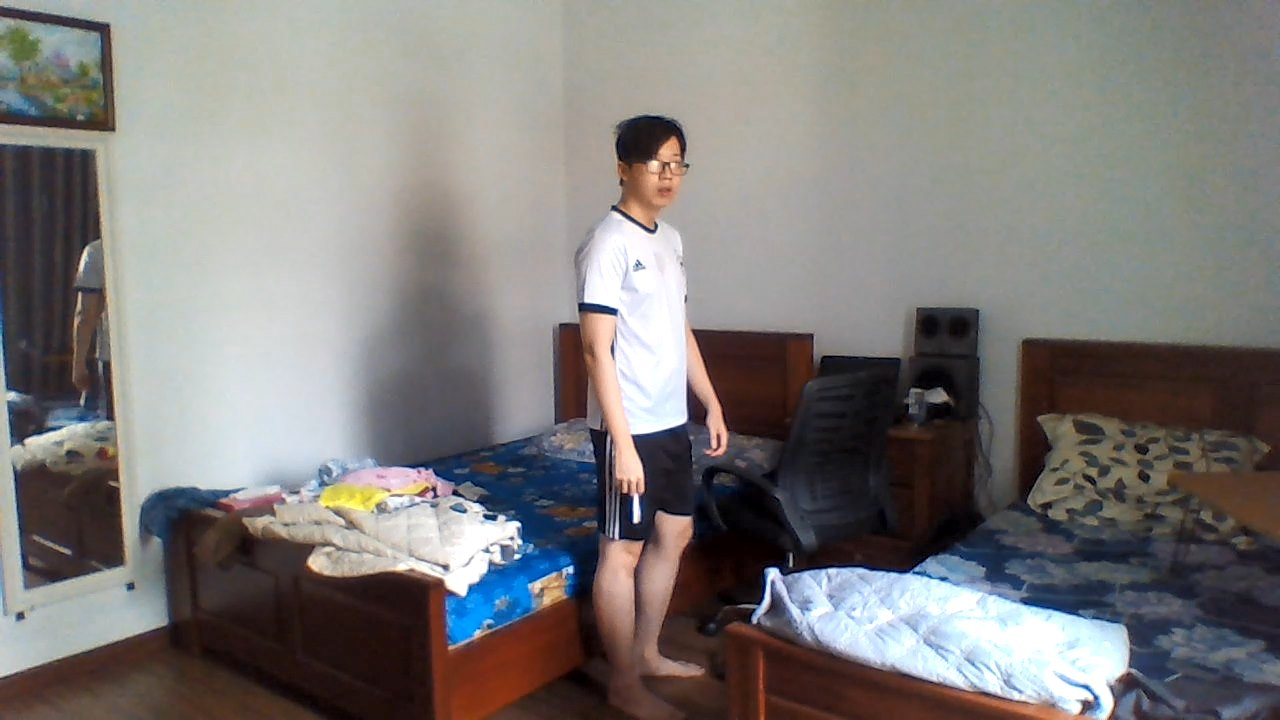cigarette: (632, 493, 644, 526)
person: (557, 105, 742, 720)
